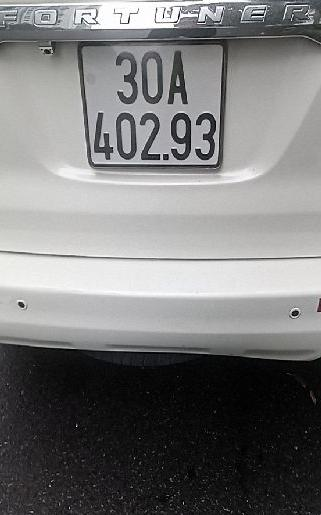Plate-iWeP: (90, 45, 224, 166)
